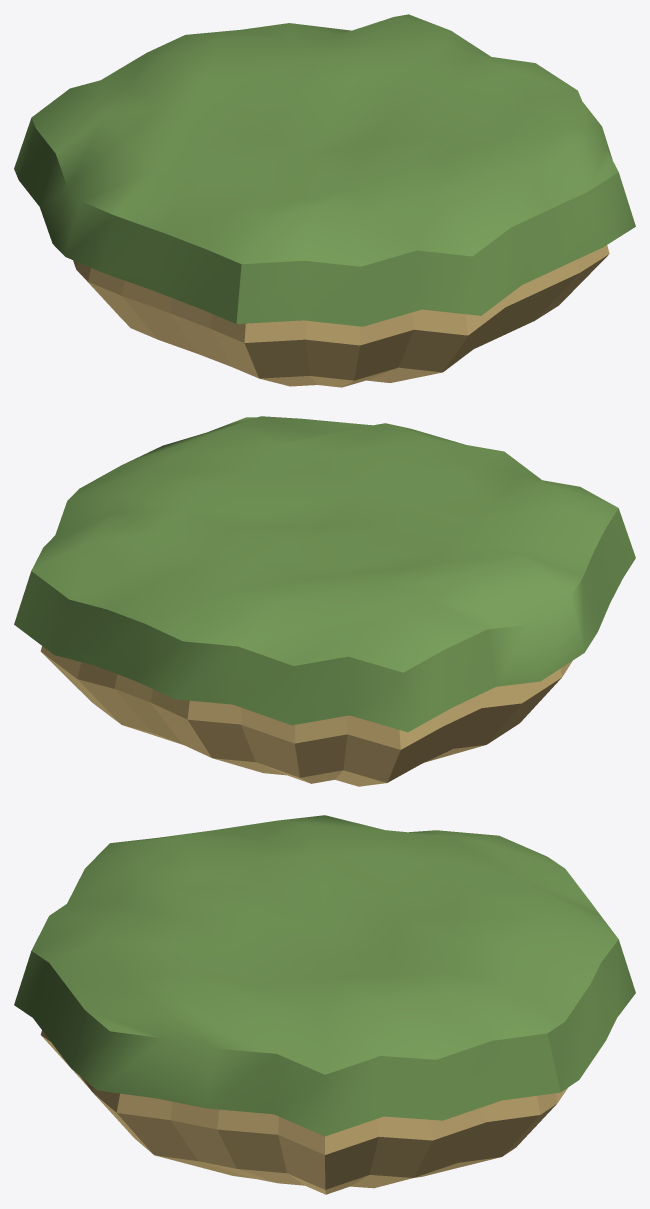
The picture shows the model from 3 angles, top to bottom: view 1: azimuth 30°, elevation 25°; view 2: azimuth 150°, elevation 25°; view 3: azimuth 270°, elevation 25°; orthographic projection. The views are drawn at different scales.
Parts seen in each view (by area): view 1: Plane.002; view 2: Plane.002; view 3: Plane.002.
Boxes of the visible parts, left/top/right/bottom form: Plane.002: left=14, top=14, right=635, bottom=387; Plane.002: left=14, top=416, right=635, bottom=786; Plane.002: left=14, top=815, right=635, bottom=1194.
Bounding box in the file's own units: 2.8 × 1.24 × 2.8.
